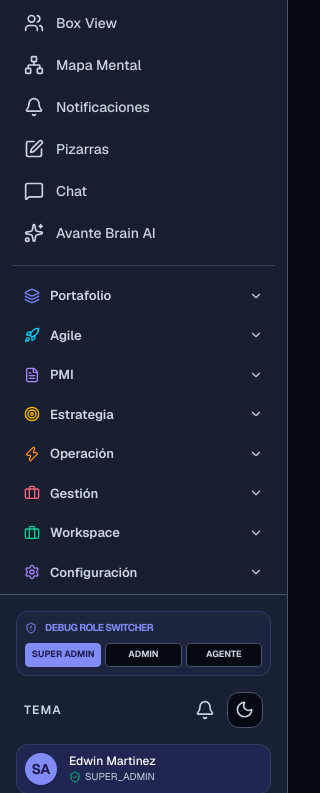
Sidebar · items consolidados P3/P4/P5 › expone el grupo Workspace con Workspaces, Miembros e Invitaciones
(page scrolled)
Click the button "Workspace" at point(85, 532), box [12, 515, 275, 550]
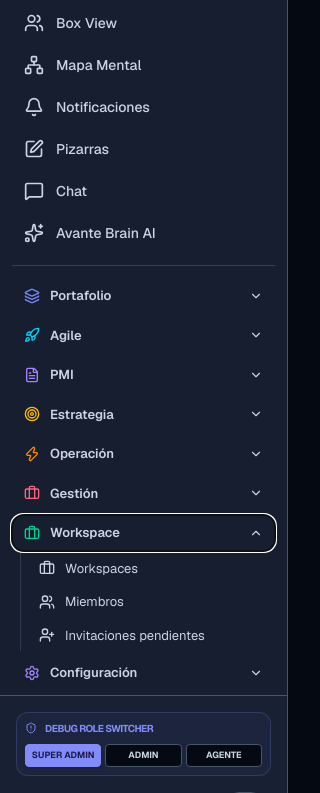
Expected: the link "Invitaciones pendientes" is shown, [39, 626, 205, 644]
